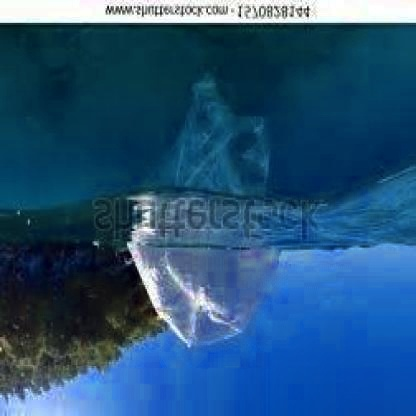pbag: (127, 72, 281, 354)
